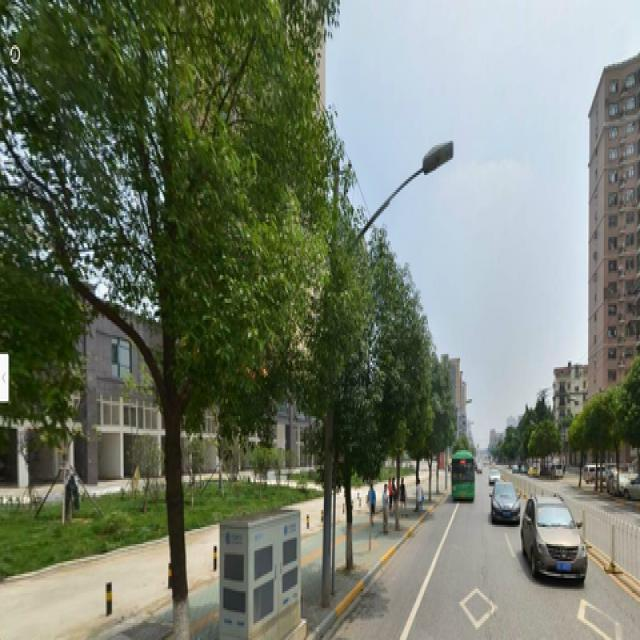cinn: (64, 13, 277, 614)
